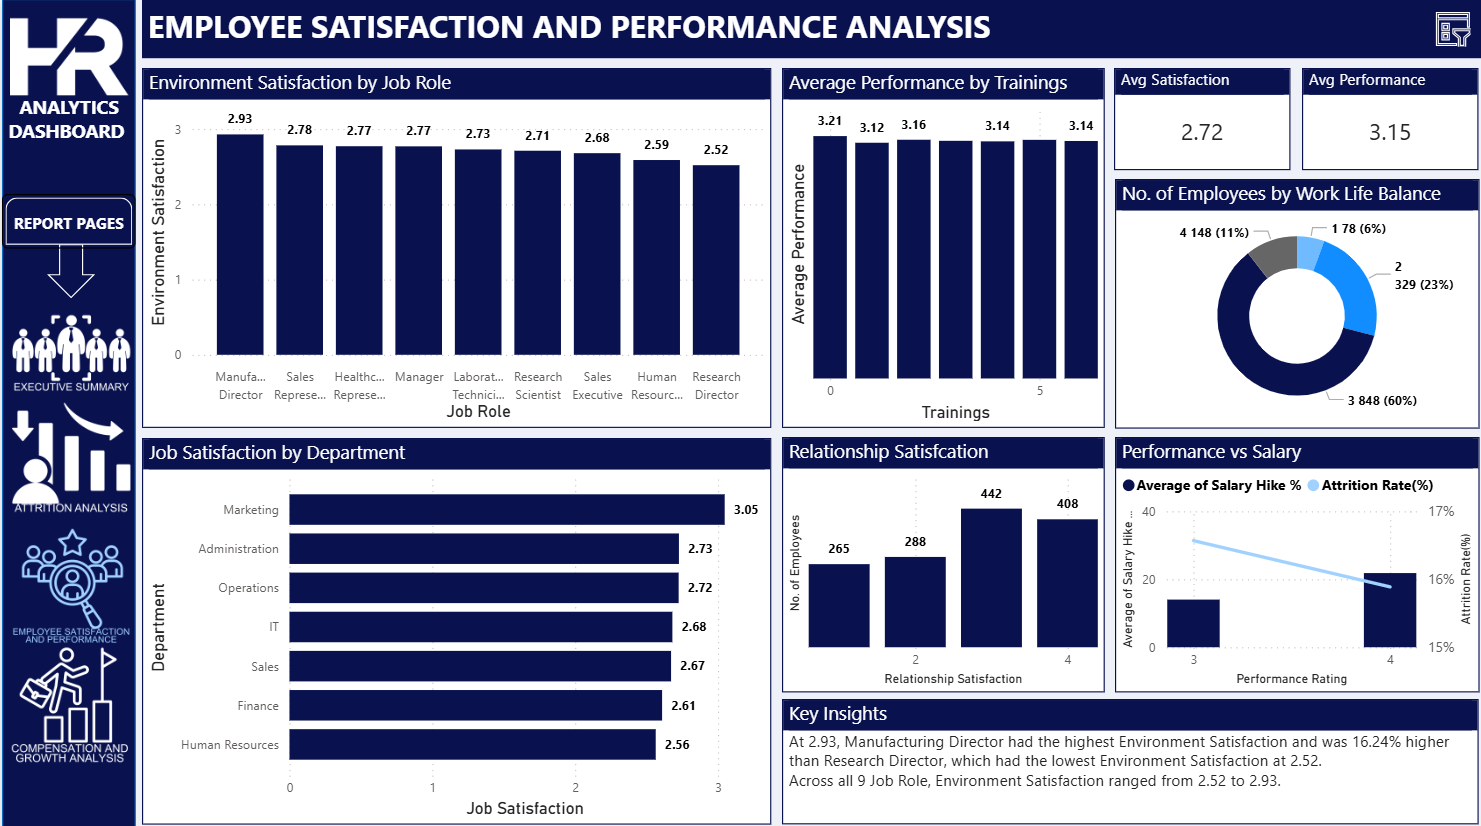

What the dashboard file says about the page in this screenshot:
{"tool":"powerbi","page":{"name":"Employee Satisfaction and Performance","canvas":[1280,720],"ordinal":2},"visuals":[{"type":"group","id":"g1","title":"Page Navigation","box":[0,0,115.2,720.5],"z":0},{"type":"shape","box":[0,0,115.2,720.5],"z":0,"group":"g1"},{"type":"textbox","box":[120.4,0,1159.6,50.9],"z":1000},{"type":"actionButton","title":"Slicers button","box":[1230.2,6.2,41.5,39.4],"z":2000},{"type":"textbox","box":[0,76.8,115.2,58.1],"z":2000,"group":"g1"},{"type":"image","box":[7.3,553.3,102.8,111.1],"z":2125,"group":"g1"},{"type":"shape","box":[38.4,210.7,41.5,46.7],"z":2250,"group":"g1"},{"type":"image","box":[8.3,342.6,101.7,111.1],"z":2312,"group":"g1"},{"type":"image","box":[7.3,0,101.7,111.1],"z":2375,"group":"g1"},{"type":"image","box":[8.3,451.6,101.7,111.1],"z":2406,"group":"g1"},{"type":"image","box":[8.3,249.1,101.7,111.1],"z":2437,"group":"g1"},{"type":"shape","box":[0,168.2,115.2,46.7],"z":2500,"group":"g1"},{"type":"clusteredBarChart","fields":{"Category":["HR_Analytics.Department"],"Y":["Avg(HR_Analytics.JobSatisfaction)"]},"box":[120.4,377.9,541.9,333.2],"z":3000},{"type":"clusteredColumnChart","title":"Environment Satisfaction by Job Role","fields":{"Category":["HR_Analytics.JobRole"],"Y":["Avg(HR_Analytics.EnvironmentSatisfaction)"]},"box":[120.4,59.1,541.9,310],"z":4000},{"type":"clusteredColumnChart","title":"Relationship Satisfcation","fields":{"Y":["Measure.tot emp"],"Category":["HR_Analytics.RelationshipSatisfaction"]},"box":[671.7,376.8,278.2,220.1],"z":5000},{"type":"donutChart","fields":{"Category":["HR_Analytics.WorkLifeBalance"],"Y":["Measure.tot emp"]},"box":[958.2,154.7,313.5,214.9],"z":6000},{"type":"lineClusteredColumnComboChart","title":"Performance vs Salary","fields":{"Category":["HR_Analytics.PerformanceRating"],"Y":["Avg(HR_Analytics.SalaryHike %)"],"Y2":["Measure.Attrition Rate(%)"]},"box":[958.2,376.8,313.5,220.1],"z":7000},{"type":"clusteredColumnChart","fields":{"Y":["Avg(HR_Analytics.PerformanceRating)"],"Category":["HR_Analytics.TrainingsLastYear"]},"box":[671.7,59.2,278.2,310.4],"z":8000},{"type":"textbox","title":"Key Insights","box":[671.7,603.1,600,108],"z":9000},{"type":"cardVisual","title":"Avg Satisfaction","fields":{"Data":["Measure.Avg Satisfaction"]},"box":[958,59.3,152,87.9],"z":11000},{"type":"cardVisual","title":"Avg Performance","fields":{"Data":["Measure.Avg Performance"]},"box":[1119.5,59.3,152.3,87.9],"z":12000}]}

Visuals, with their boxes in screenshot pixels (x1, y1, x2, y2), scaled from the page's 1280x720 canvas onto the 1481x826 screenshot:
"Page Navigation" group: box(0, 0, 133, 825)
shape: box(0, 0, 133, 825)
textbox: box(139, 0, 1480, 58)
"Slicers button" actionButton: box(1423, 7, 1471, 52)
textbox: box(0, 88, 133, 155)
image: box(8, 635, 127, 762)
shape: box(44, 242, 92, 295)
image: box(10, 393, 127, 520)
image: box(8, 0, 126, 127)
image: box(10, 518, 127, 646)
image: box(10, 286, 127, 413)
shape: box(0, 193, 133, 247)
clusteredBarChart - HR_Analytics.Department x Avg(HR_Analytics.JobSatisfaction): box(139, 434, 766, 816)
"Environment Satisfaction by Job Role" clusteredColumnChart: box(139, 68, 766, 423)
"Relationship Satisfcation" clusteredColumnChart: box(777, 432, 1099, 685)
donutChart - HR_Analytics.WorkLifeBalance x Measure.tot emp: box(1109, 177, 1471, 424)
"Performance vs Salary" lineClusteredColumnComboChart: box(1109, 432, 1471, 685)
clusteredColumnChart - Avg(HR_Analytics.PerformanceRating) x HR_Analytics.TrainingsLastYear: box(777, 68, 1099, 424)
"Key Insights" textbox: box(777, 692, 1471, 816)
"Avg Satisfaction" cardVisual: box(1108, 68, 1284, 169)
"Avg Performance" cardVisual: box(1295, 68, 1472, 169)
